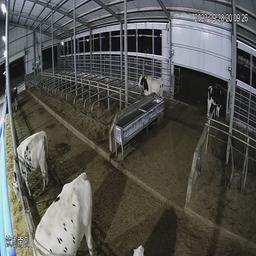cow: (29, 168, 99, 251), (9, 128, 54, 204), (132, 67, 167, 108), (203, 80, 226, 117), (5, 82, 21, 111)
